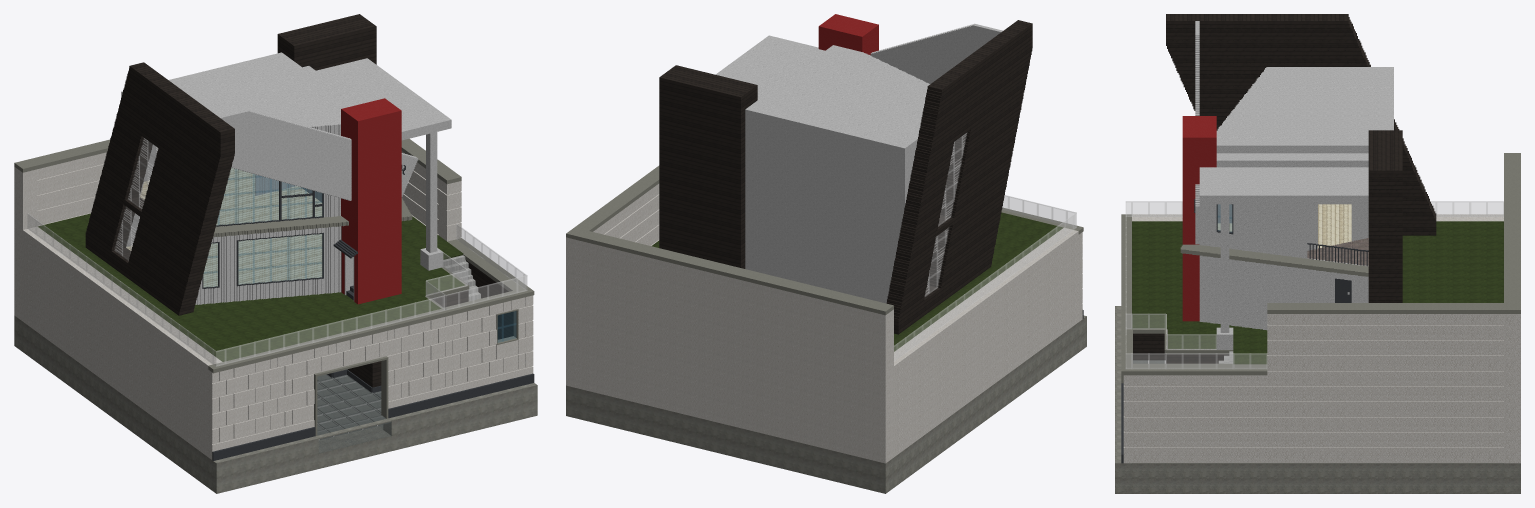
The model's file is house.obj.
The picture shows the model from 3 angles, left to right: view 1: azimuth 30°, elevation 25°; view 2: azimuth 150°, elevation 25°; view 3: azimuth 270°, elevation 25°; orthographic projection.
Visible parts, largest first — view 1: minecraft_concrete_powder_white_-1, minecraft_planks_big_oak_-1, minecraft_concrete_white_-1, minecraft_stone_-1, minecraft_grass_top_-1, minecraft_glass_white_-1, minecraft_concrete_red_-1, minecraft_concrete_silver_-1, minecraft_glass_cyan_-1, minecraft_planks_birch_-1, minecraft_concrete_gray_-1, minecraft_hardened_clay_stained_cyan_-1 (+1 smaller); view 2: minecraft_concrete_powder_white_-1, minecraft_concrete_white_-1, minecraft_planks_big_oak_-1, minecraft_stone_-1, minecraft_concrete_silver_-1, minecraft_glass_white_-1, minecraft_grass_top_-1, minecraft_concrete_red_-1; view 3: minecraft_concrete_powder_white_-1, minecraft_concrete_white_-1, minecraft_planks_big_oak_-1, minecraft_grass_top_-1, minecraft_stone_-1, minecraft_concrete_silver_-1, minecraft_glass_white_-1, minecraft_concrete_red_-1, minecraft_planks_birch_-1, minecraft_concrete_gray_-1, minecraft_stone_andesite_smooth_-1.
Part boxes in pixels (x1,y1,x2,y2): minecraft_concrete_powder_white_-1: (14, 151, 533, 459); minecraft_planks_big_oak_-1: (85, 14, 513, 387); minecraft_concrete_white_-1: (121, 52, 451, 440); minecraft_stone_-1: (14, 315, 537, 493); minecraft_grass_top_-1: (38, 213, 464, 361); minecraft_glass_white_-1: (27, 138, 527, 366); minecraft_concrete_red_-1: (341, 98, 401, 304); minecraft_concrete_silver_-1: (14, 138, 534, 435); minecraft_glass_cyan_-1: (203, 168, 516, 342); minecraft_planks_birch_-1: (126, 168, 322, 287); minecraft_concrete_gray_-1: (202, 165, 534, 460); minecraft_hardened_clay_stained_cyan_-1: (317, 374, 391, 453); minecraft_concrete_powder_white_-1: (566, 183, 1082, 463); minecraft_concrete_white_-1: (715, 23, 1002, 303); minecraft_planks_big_oak_-1: (659, 20, 1032, 334); minecraft_stone_-1: (566, 315, 1086, 493); minecraft_concrete_silver_-1: (566, 165, 1083, 315); minecraft_glass_white_-1: (894, 133, 1076, 361); minecraft_grass_top_-1: (651, 212, 1063, 351); minecraft_concrete_red_-1: (818, 14, 878, 55); minecraft_concrete_powder_white_-1: (1123, 214, 1520, 463); minecraft_concrete_white_-1: (1148, 21, 1393, 363); minecraft_planks_big_oak_-1: (1133, 14, 1436, 363); minecraft_grass_top_-1: (1132, 221, 1503, 364); minecraft_stone_-1: (1115, 306, 1520, 493); minecraft_concrete_silver_-1: (1121, 153, 1520, 383); minecraft_glass_white_-1: (1125, 201, 1503, 369); minecraft_concrete_red_-1: (1182, 116, 1216, 321); minecraft_planks_birch_-1: (1217, 204, 1351, 248); minecraft_concrete_gray_-1: (1121, 199, 1368, 463); minecraft_stone_andesite_smooth_-1: (1307, 238, 1368, 265).
Bounding box in the file's own units: 22 × 22 × 24.
